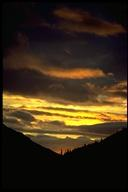cloud: (6, 67, 121, 140)
mountain: (3, 121, 124, 189)
sunset: (8, 93, 121, 126)
